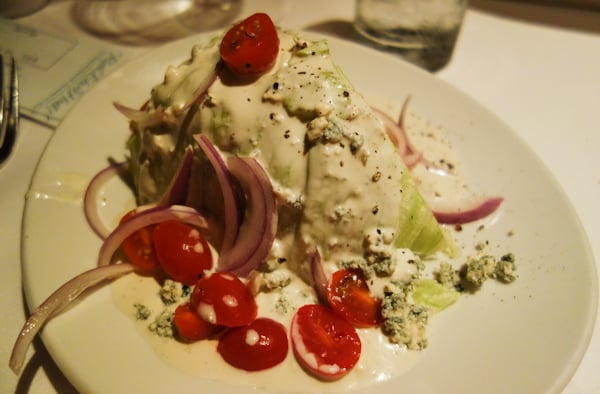pizza: (352, 0, 468, 72)
